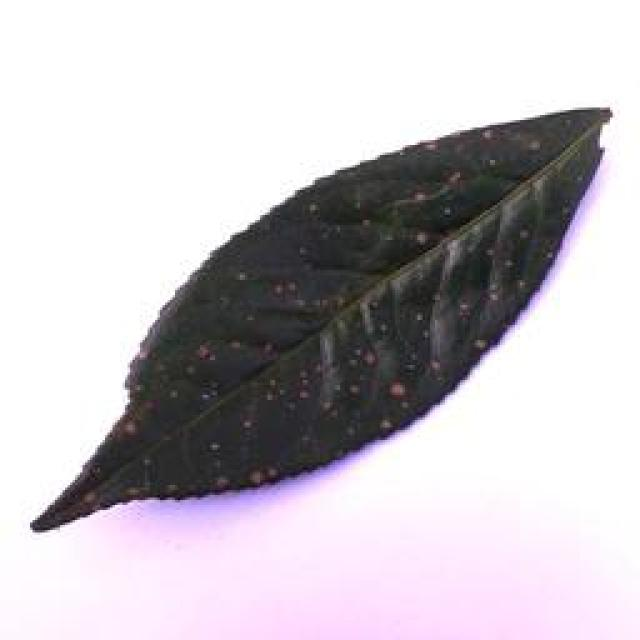Algal Leaf Spot: (37, 97, 609, 534)
